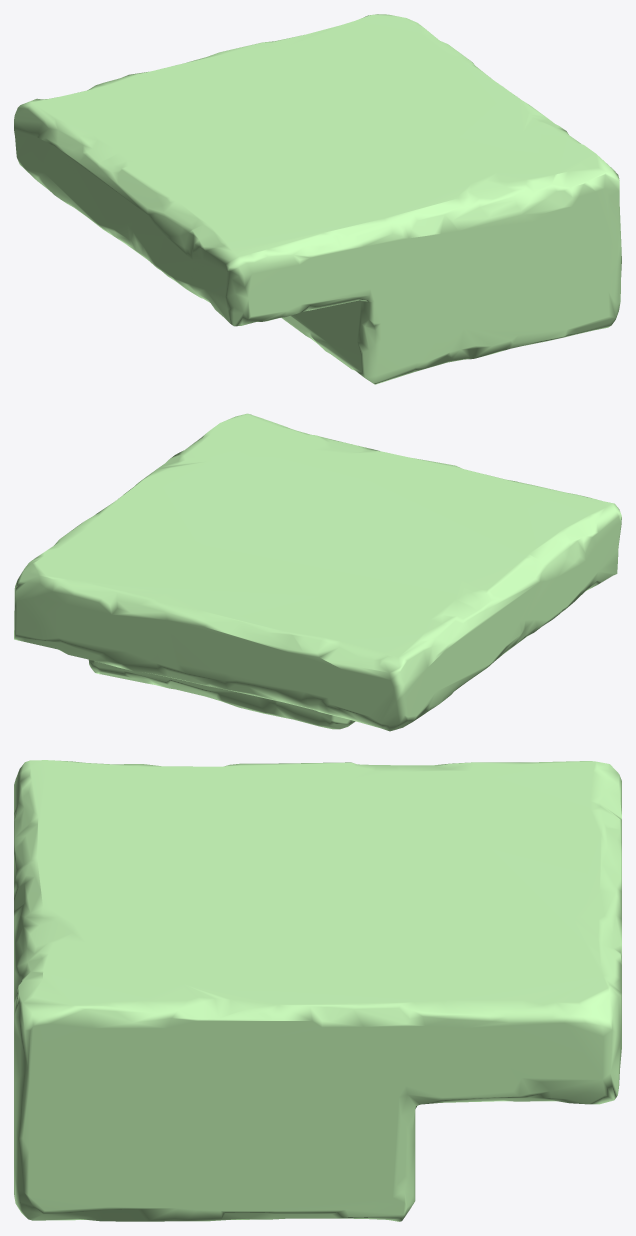
File: stone_tiles_l_ver1_LOD1.fbx
The picture shows the model from 3 angles, top to bottom: view 1: azimuth 30°, elevation 25°; view 2: azimuth 150°, elevation 25°; view 3: azimuth 270°, elevation 25°; orthographic projection. The views are drawn at different scales.
Parts seen in each view (by area): view 1: Cube_007lod1; view 2: Cube_007lod1; view 3: Cube_007lod1.
Boxes of the visible parts, x1=… form: Cube_007lod1: x1=14, y1=14, x2=621, y2=384; Cube_007lod1: x1=14, y1=413, x2=621, y2=731; Cube_007lod1: x1=14, y1=760, x2=621, y2=1221.
Size of the model in its own units: 70.95 by 27.89 by 70.96.
